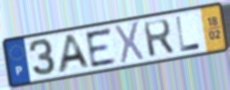3: (27, 38, 57, 77)
A: (56, 33, 93, 75)
E: (83, 26, 119, 70)
L: (174, 15, 202, 54)
R: (141, 17, 176, 59)
X: (113, 20, 146, 66)
